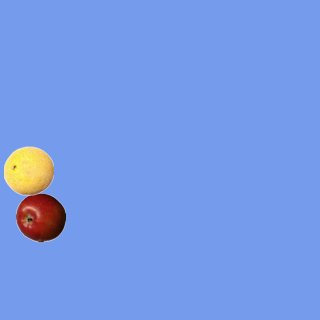Apple Braeburn: (15, 192, 65, 242)
Cantaloupe 1: (3, 145, 53, 195)
